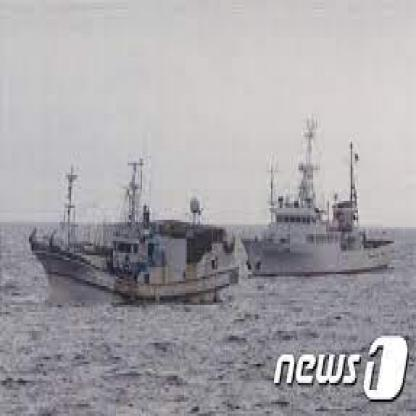fish-b: (17, 173, 245, 312), (238, 125, 402, 286)
